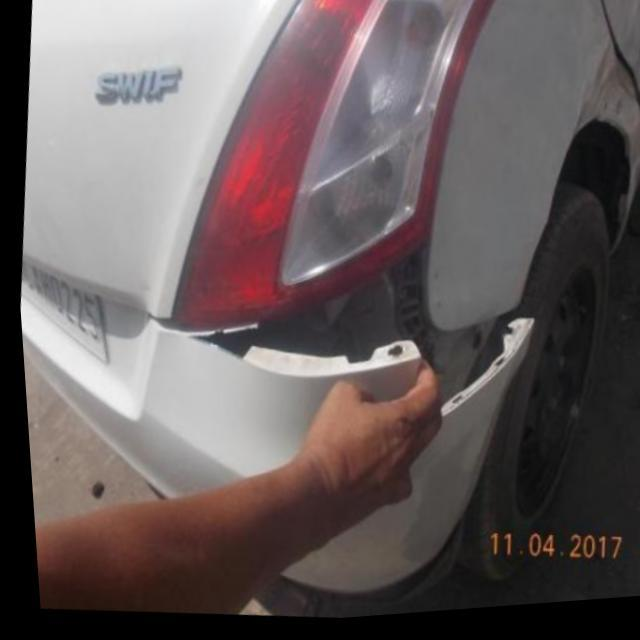dislocated part: (181, 249, 528, 417)
